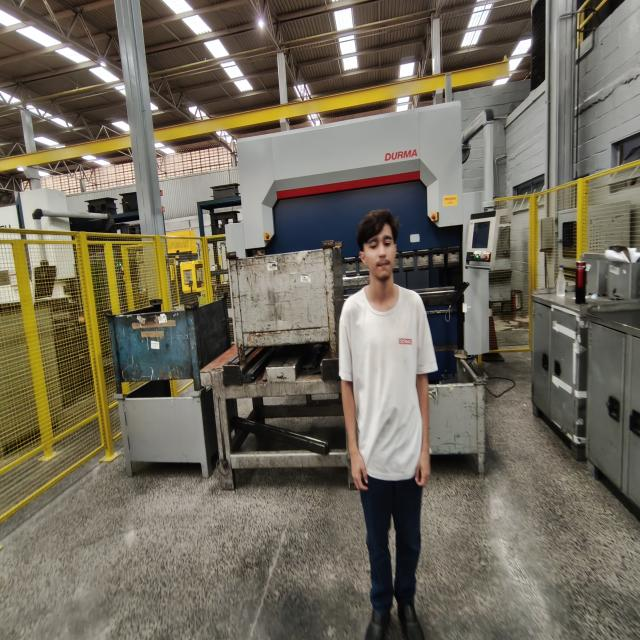sem_oculos: (352, 228, 403, 248)
